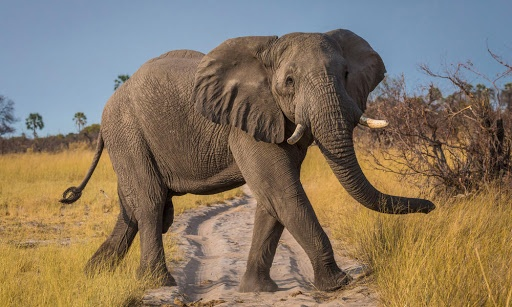elephant: (75, 30, 435, 286)
